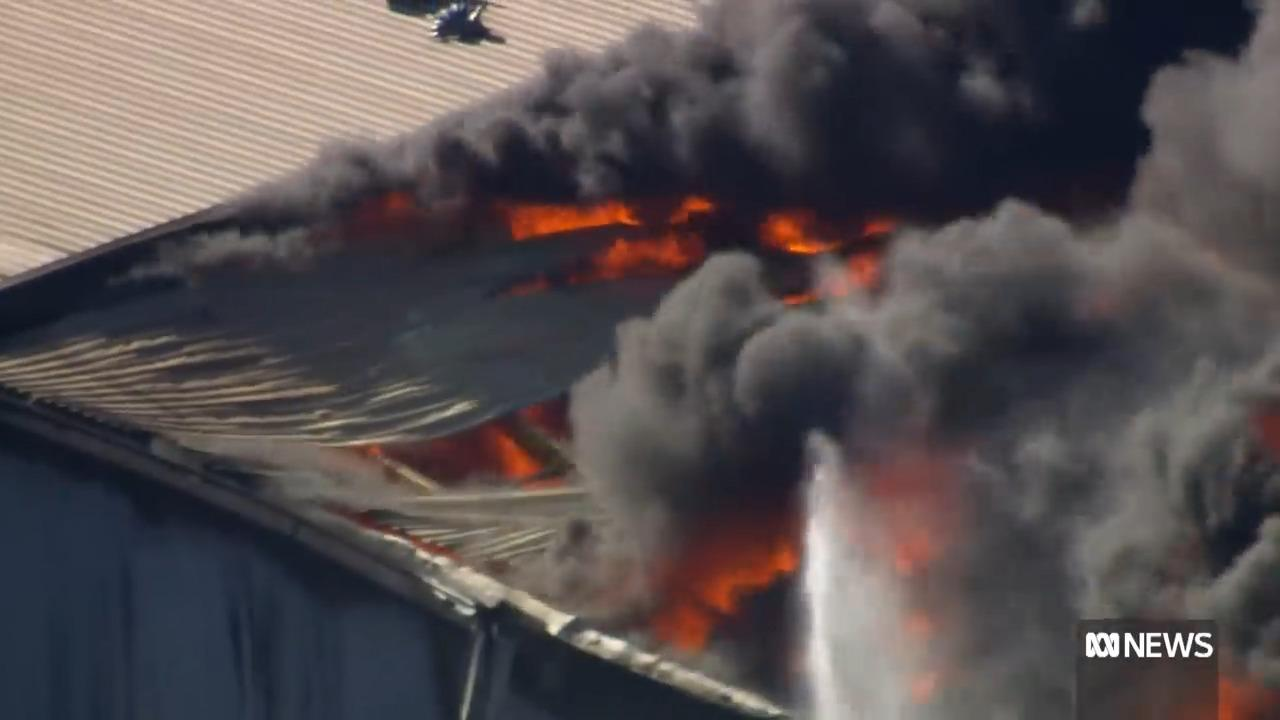fire: (503, 200, 644, 234), (487, 413, 573, 466), (763, 219, 840, 265), (716, 567, 794, 600)
